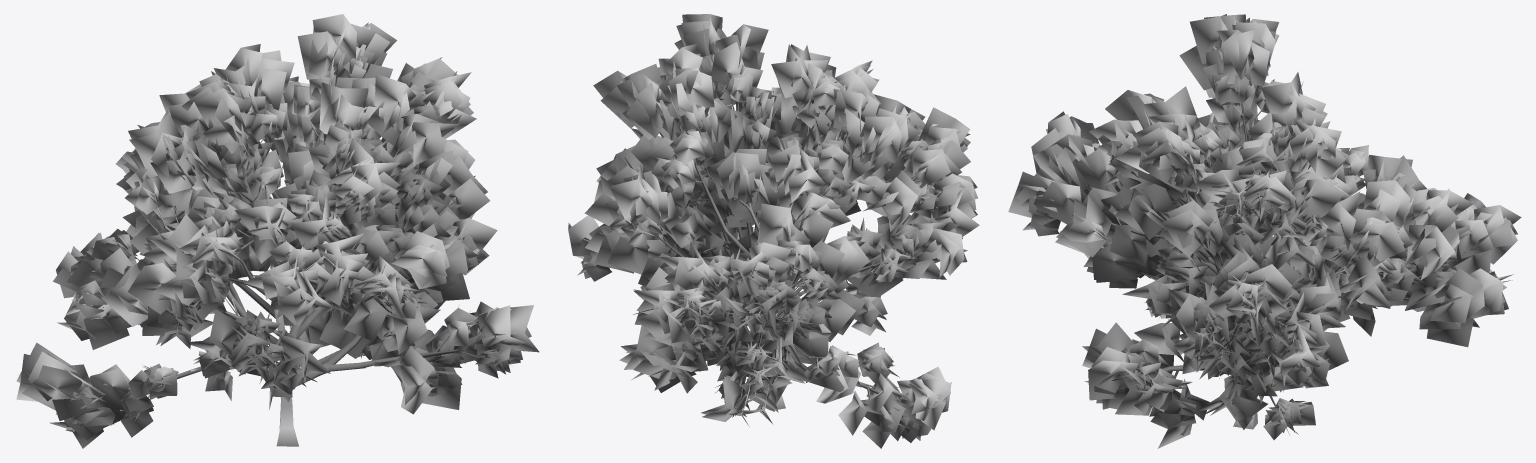
File: SycamoreNorthAmerican_B.fbx
The picture shows the model from 3 angles, left to right: view 1: azimuth 30°, elevation 25°; view 2: azimuth 150°, elevation 25°; view 3: azimuth 270°, elevation 25°; orthographic projection. The views are drawn at different scales.
Visible parts, largest first — view 1: SycamoreNorthAmerican_B_LOD0; view 2: SycamoreNorthAmerican_B_LOD0; view 3: SycamoreNorthAmerican_B_LOD0.
Boxes of the visible parts, box(x1,y1,x2,y2) form: SycamoreNorthAmerican_B_LOD0: box(16, 14, 539, 448); SycamoreNorthAmerican_B_LOD0: box(568, 14, 979, 448); SycamoreNorthAmerican_B_LOD0: box(1008, 14, 1521, 448).
Bounding box in the file's own units: 2513 × 2213 × 2656.
